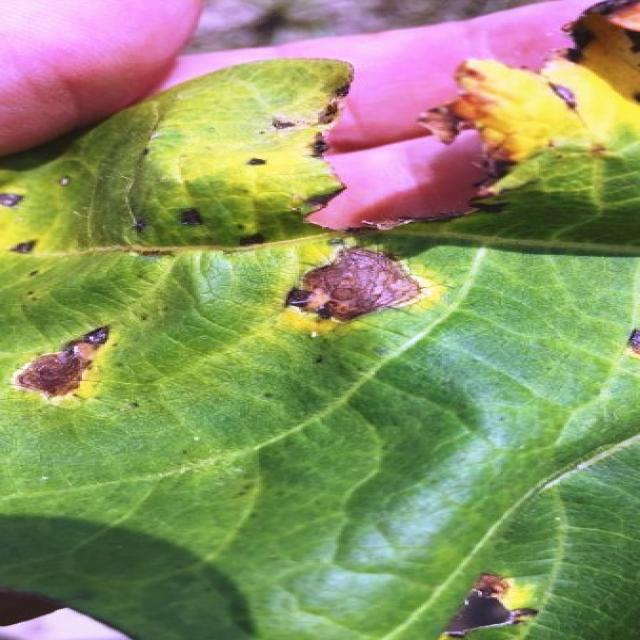Bacterial Blight: (243, 71, 550, 341)
